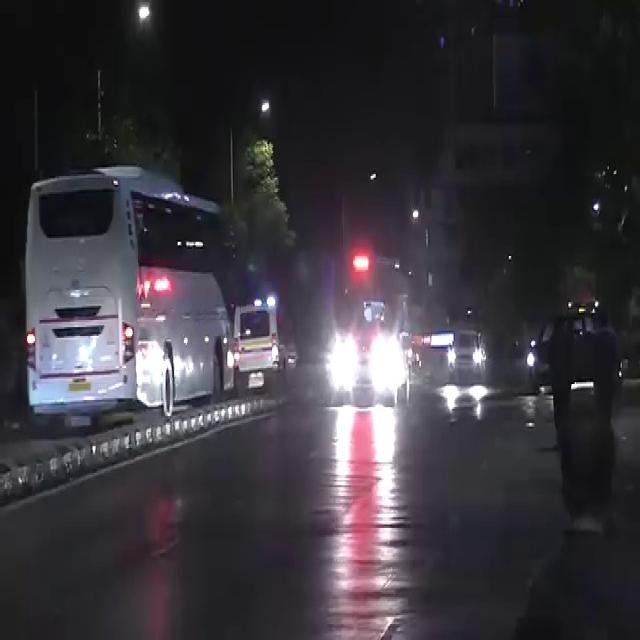ambulance: (324, 244, 414, 402)
